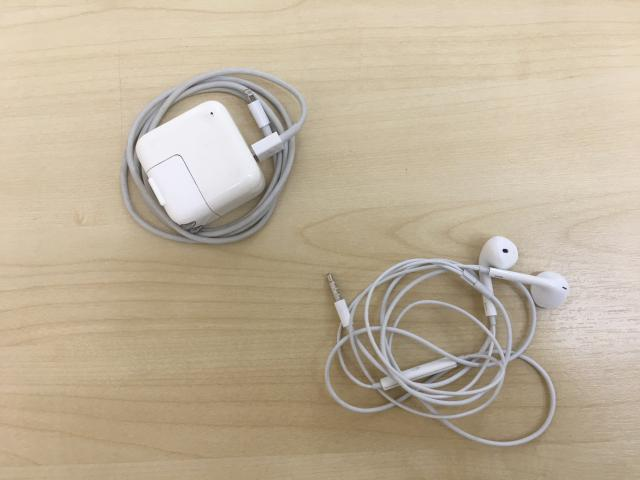wire: (323, 229, 567, 450), (129, 71, 300, 245)
